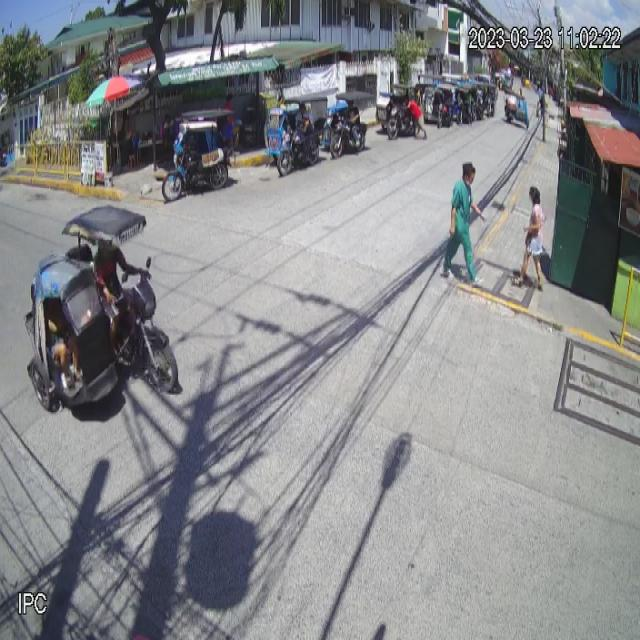Tricycle: (24, 205, 180, 419)
